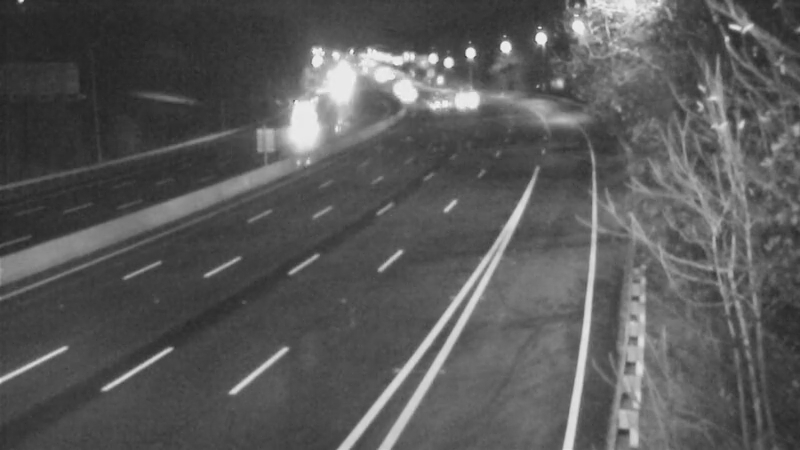vehicle: (375, 62, 425, 112), (383, 69, 433, 119), (436, 72, 486, 122), (412, 77, 462, 127), (279, 95, 329, 145)
